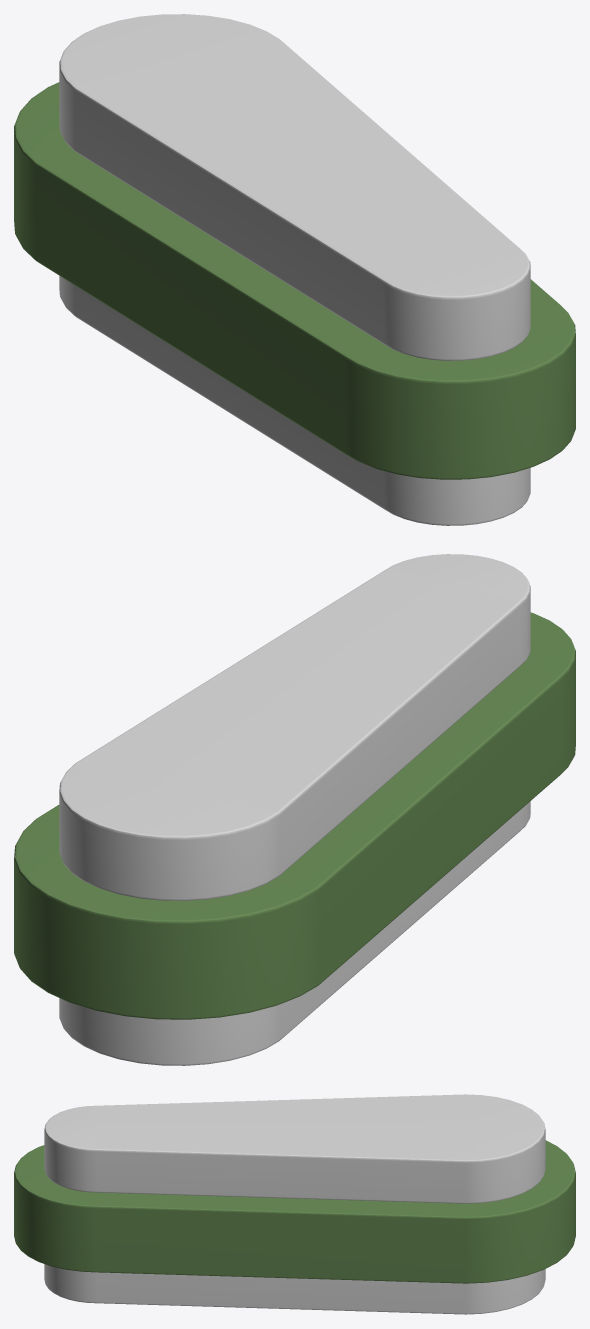
The model's file is Flipper.fbx.
The picture shows the model from 3 angles, top to bottom: view 1: azimuth 30°, elevation 25°; view 2: azimuth 150°, elevation 25°; view 3: azimuth 270°, elevation 25°; orthographic projection. The views are drawn at different scales.
Visible parts, largest first — view 1: Flipper; view 2: Flipper; view 3: Flipper.
Boxes of the visible parts, box(x1,y1,x2,y2) form: Flipper: box(14, 14, 575, 525); Flipper: box(14, 554, 575, 1065); Flipper: box(14, 1094, 575, 1314).
Size of the model in its own units: 0.0832 by 0.0645 by 0.2124.
